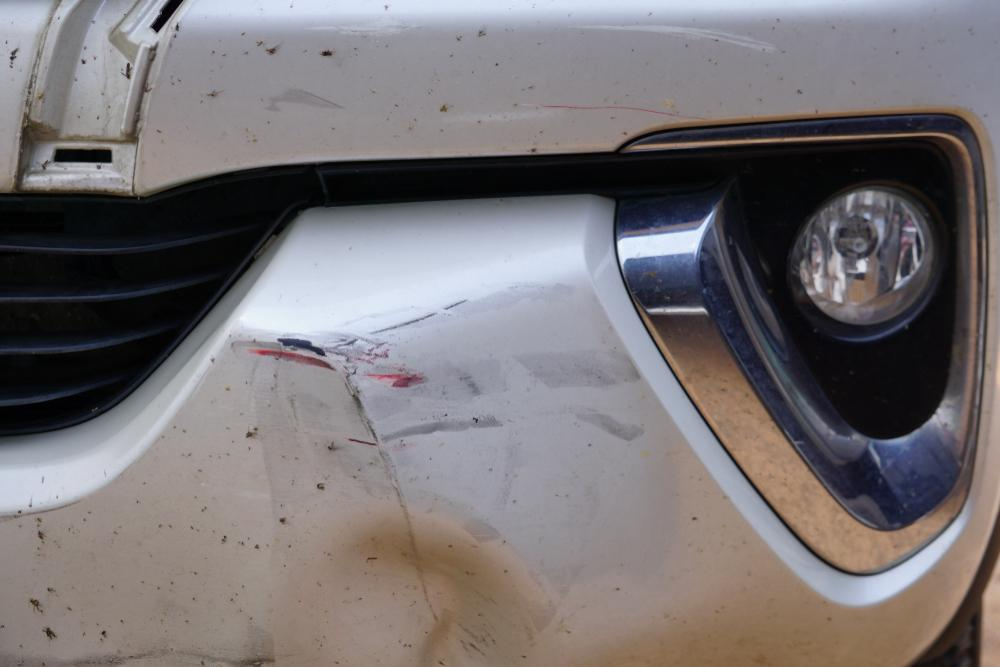dent: (305, 504, 547, 667)
scratch: (233, 268, 652, 478)
